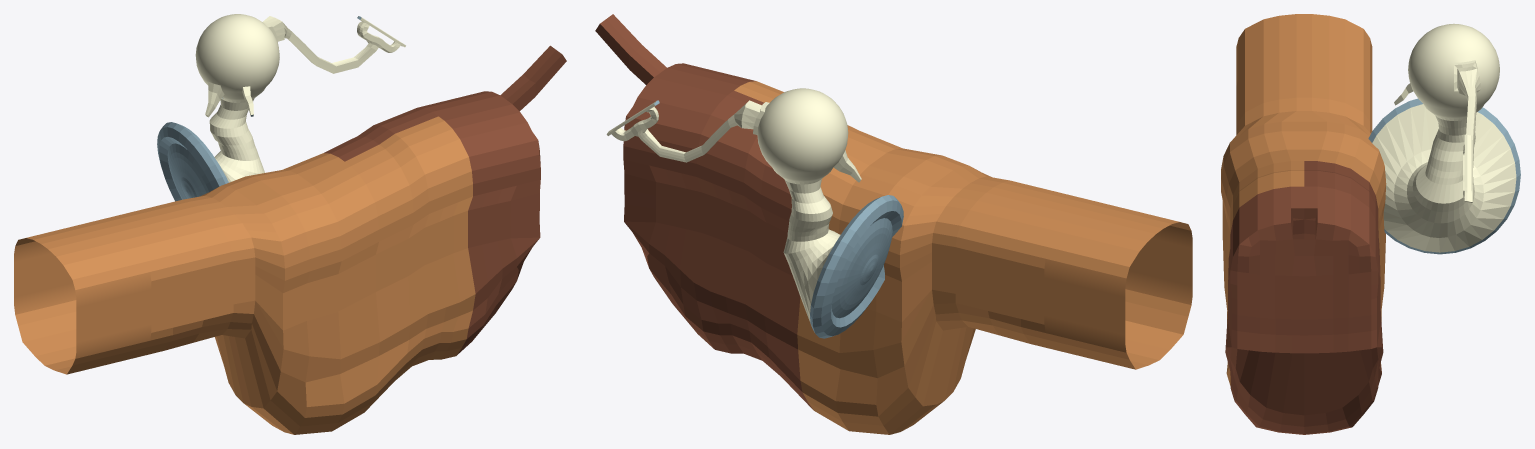
Rendered from ear model proper 2.FBX.
3 views of the same model, side by side, from view 1: azimuth 30°, elevation 25°; view 2: azimuth 150°, elevation 25°; view 3: azimuth 270°, elevation 25° (orthographic). The views are drawn at different scales.
Visible parts, largest first — view 1: Drum cover002, Drum; view 2: Drum cover002, Drum; view 3: Drum cover002, Drum.
Boxes of the visible parts, bbox=[...] form: Drum cover002: bbox=[14, 45, 566, 434]; Drum: bbox=[157, 14, 405, 201]; Drum cover002: bbox=[595, 14, 1192, 434]; Drum: bbox=[606, 88, 903, 338]; Drum cover002: bbox=[1221, 14, 1386, 434]; Drum: bbox=[1368, 23, 1520, 254].
Size of the model in its own units: 634885 by 415749 by 291835.
4 materials, 4 textured.
